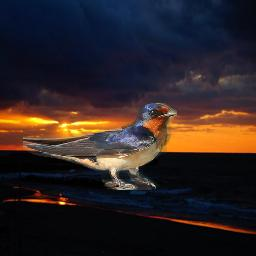Swallow: (23, 103, 177, 190)
